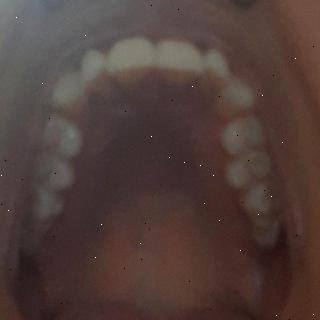maligned: (79, 46, 109, 103), (200, 44, 228, 102)
